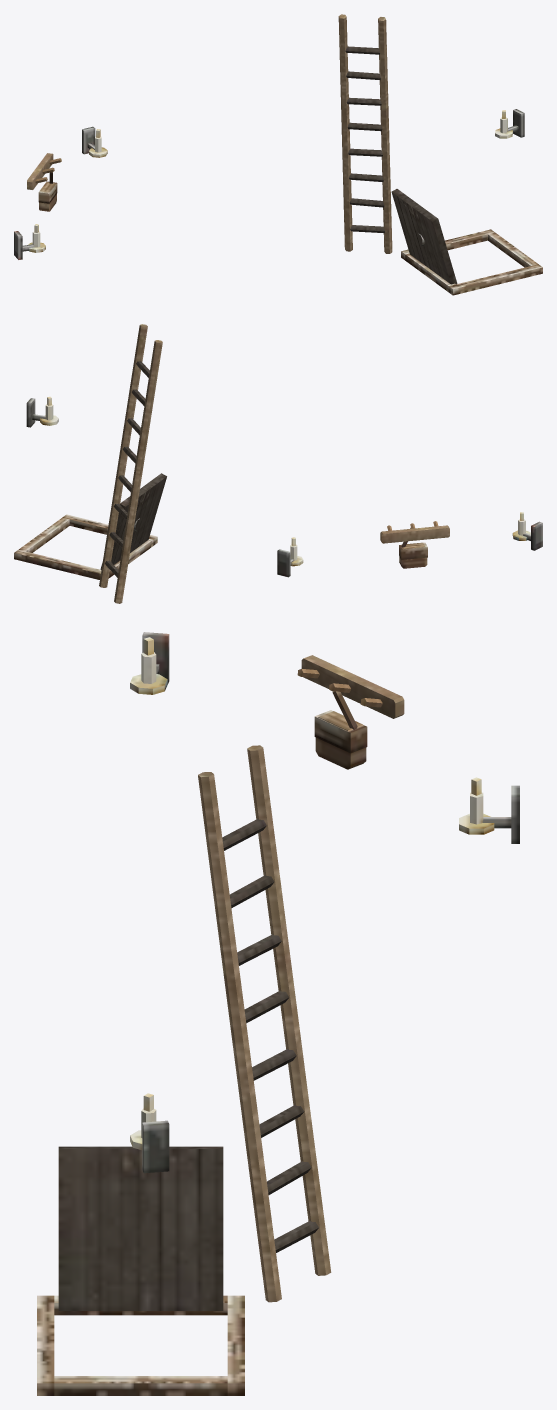
The model's file is room_f3.glb.
3 views of the same model, one above another, from view 1: azimuth 30°, elevation 25°; view 2: azimuth 150°, elevation 25°; view 3: azimuth 270°, elevation 25° (orthographic). The views are drawn at different scales.
Parts seen in each view (by area): view 1: tile_wood, solid; view 2: tile_wood, solid; view 3: tile_wood, solid.
Part boxes in pixels (x1=…): tile_wood: x1=27, y1=14, x2=542, y2=295; solid: x1=14, y1=109, x2=524, y2=259; tile_wood: x1=14, y1=324, x2=449, y2=603; solid: x1=26, y1=398, x2=542, y2=577; tile_wood: x1=37, y1=655, x2=404, y2=1395; solid: x1=130, y1=632, x2=519, y2=1173.
Size of the model in its own units: 135 by 64.53 by 55.75.
Materials: 2 (2 with a texture image).
